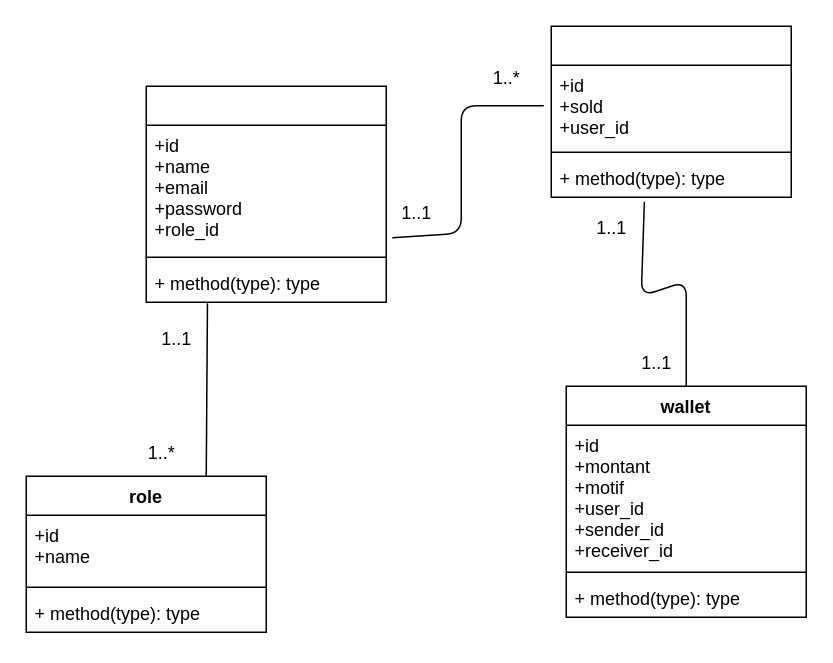
The diagram is 833 pixels wide and 663 high, and some of its shapes have lost their labels. Here are the shapes that lost their labels. From the top down, the box of each, then its label:
(550, 25, 791, 197): compte
(145, 85, 386, 302): user
